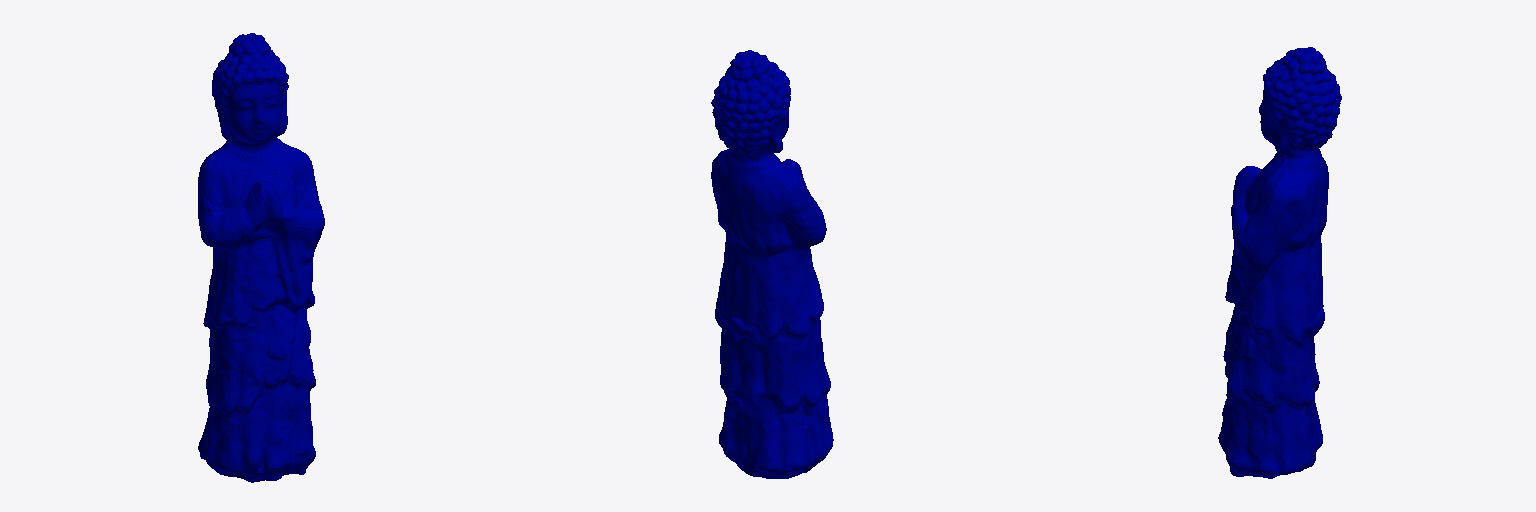
The model's file is stytta.obj.
The picture shows the model from 3 angles: view 1: azimuth 30°, elevation 25°; view 2: azimuth 150°, elevation 25°; view 3: azimuth 270°, elevation 25°; orthographic projection.
Parts seen in each view (by area): view 1: stytta; view 2: stytta; view 3: stytta.
Part boxes in pixels (x1,y1,x2,y2): stytta: (198,33,324,482); stytta: (711,50,833,478); stytta: (1218,47,1341,478).
Bounding box in the file's own units: 3.5 × 12.74 × 3.41.